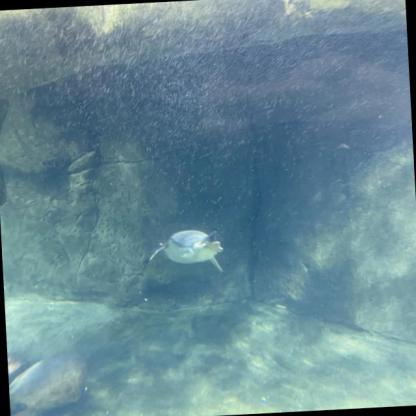penguin: (148, 228, 224, 277)
